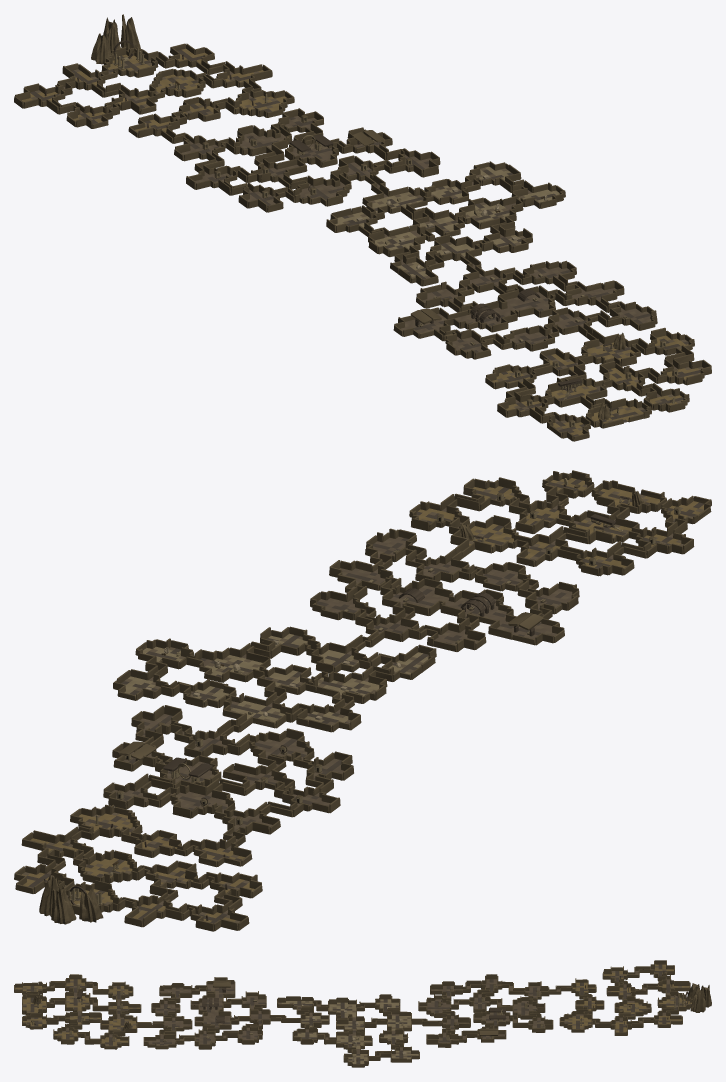
The model's file is necropole.glb.
3 renders of one model, top to bottom at view 1: azimuth 30°, elevation 25°; view 2: azimuth 150°, elevation 25°; view 3: azimuth 270°, elevation 25°, orthographic. The views are drawn at different scales.
Parts seen in each view (by area): view 1: base_0_10, base_1_3, base_0_0, base_1_0, base_0_8, base_0_7, base_1_5, base_2_6, base_0_1, base_1_9, base_0_2, base_1_6 (+26 smaller); view 2: base_0_10, base_0_1, base_1_5, base_2_6, base_1_3, base_0_8, base_0_7, base_1_0, base_0_0, base_1_6, base_1_9, base_0_9 (+30 smaller); view 3: base_0_10, base_0_0, base_1_0, base_1_5, base_1_3, base_1_9, base_0_9, base_0_1, base_0_7, base_2_6, base_0_11, base_0_2 (+31 smaller).
Boxes of the visible parts, x1,y1,x2,y2 form: base_0_10: [116, 74, 225, 123]; base_1_3: [478, 273, 588, 319]; base_0_0: [530, 378, 645, 428]; base_1_0: [594, 359, 702, 413]; base_0_8: [202, 139, 307, 182]; base_0_7: [233, 169, 346, 212]; base_1_5: [389, 208, 499, 258]; base_2_6: [431, 161, 531, 212]; base_0_1: [492, 348, 586, 403]; base_1_9: [225, 91, 323, 139]; base_0_2: [443, 318, 547, 359]; base_1_6: [362, 185, 450, 223]; base_0_10: [85, 832, 216, 888]; base_0_1: [516, 524, 643, 576]; base_1_5: [246, 643, 370, 696]; base_2_6: [117, 657, 246, 707]; base_1_3: [353, 569, 461, 627]; base_0_8: [189, 763, 304, 818]; base_0_7: [251, 728, 349, 787]; base_1_0: [480, 475, 602, 527]; base_0_0: [569, 487, 673, 545]; base_1_6: [207, 677, 310, 728]; base_1_9: [70, 782, 178, 835]; base_0_9: [151, 791, 272, 850]; base_0_10: [576, 984, 650, 1015]; base_0_0: [23, 986, 88, 1014]; base_1_0: [23, 1008, 100, 1039]; base_1_5: [301, 1007, 363, 1035]; base_1_3: [195, 1009, 257, 1036]; base_1_9: [521, 1009, 591, 1032]; base_0_9: [513, 985, 583, 1015]; base_0_1: [86, 984, 141, 1014]; base_0_7: [418, 984, 473, 1014]; base_2_6: [360, 1032, 418, 1062]; base_0_11: [635, 984, 692, 1014]; base_0_2: [151, 985, 199, 1015].
Size of the model in its own units: 62.42 by 6.59 by 178.
